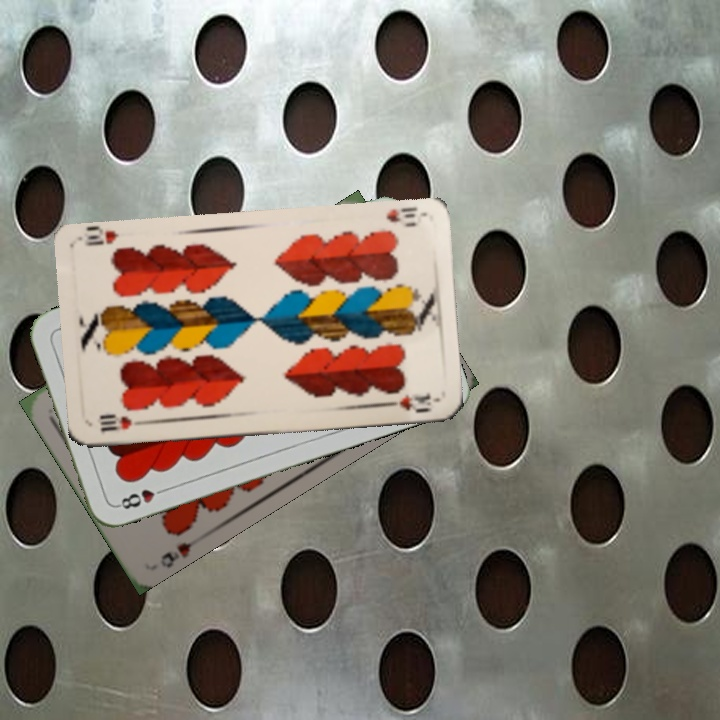H10: (95, 412, 150, 434), (382, 204, 420, 225)
H8: (113, 483, 170, 512)
H9: (157, 533, 202, 568)
